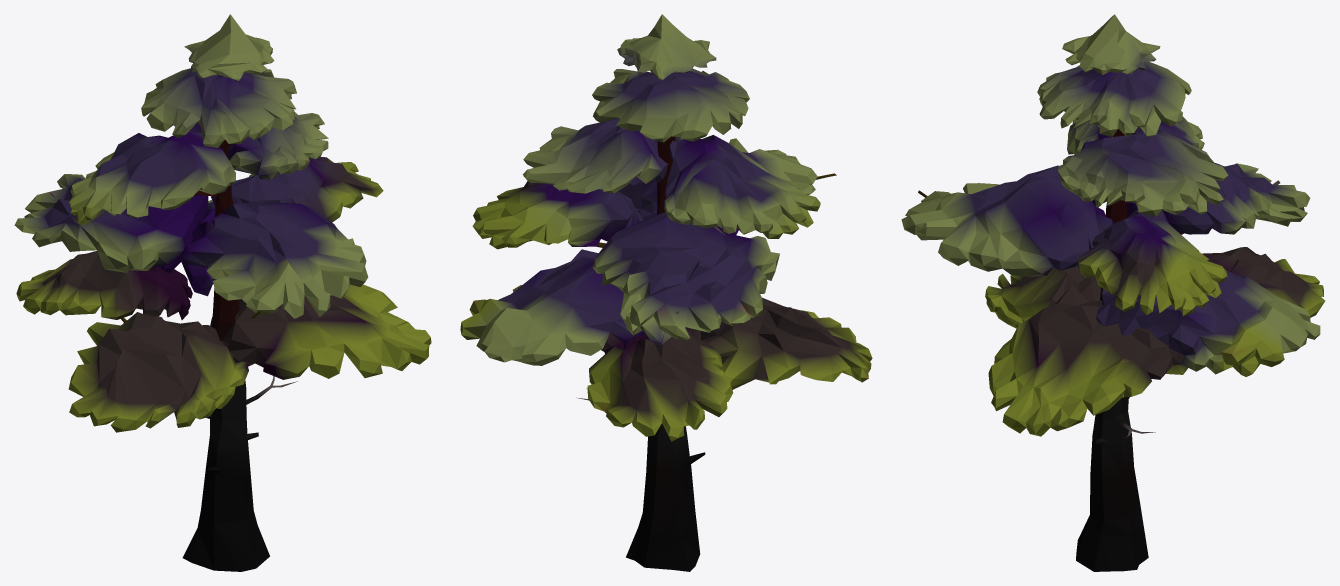
Rendered from tree_andiy.fbx.
3 views of the same model, side by side, from view 1: azimuth 30°, elevation 25°; view 2: azimuth 150°, elevation 25°; view 3: azimuth 270°, elevation 25° (orthographic).
Visible parts, largest first — view 1: Tree_Base; view 2: Tree_Base; view 3: Tree_Base.
Boxes of the visible parts, x1,y1,x2,y2 form: Tree_Base: (14, 14, 431, 571); Tree_Base: (460, 14, 872, 571); Tree_Base: (901, 14, 1325, 571).
Bounding box in the file's own units: 221 × 330 × 233.
